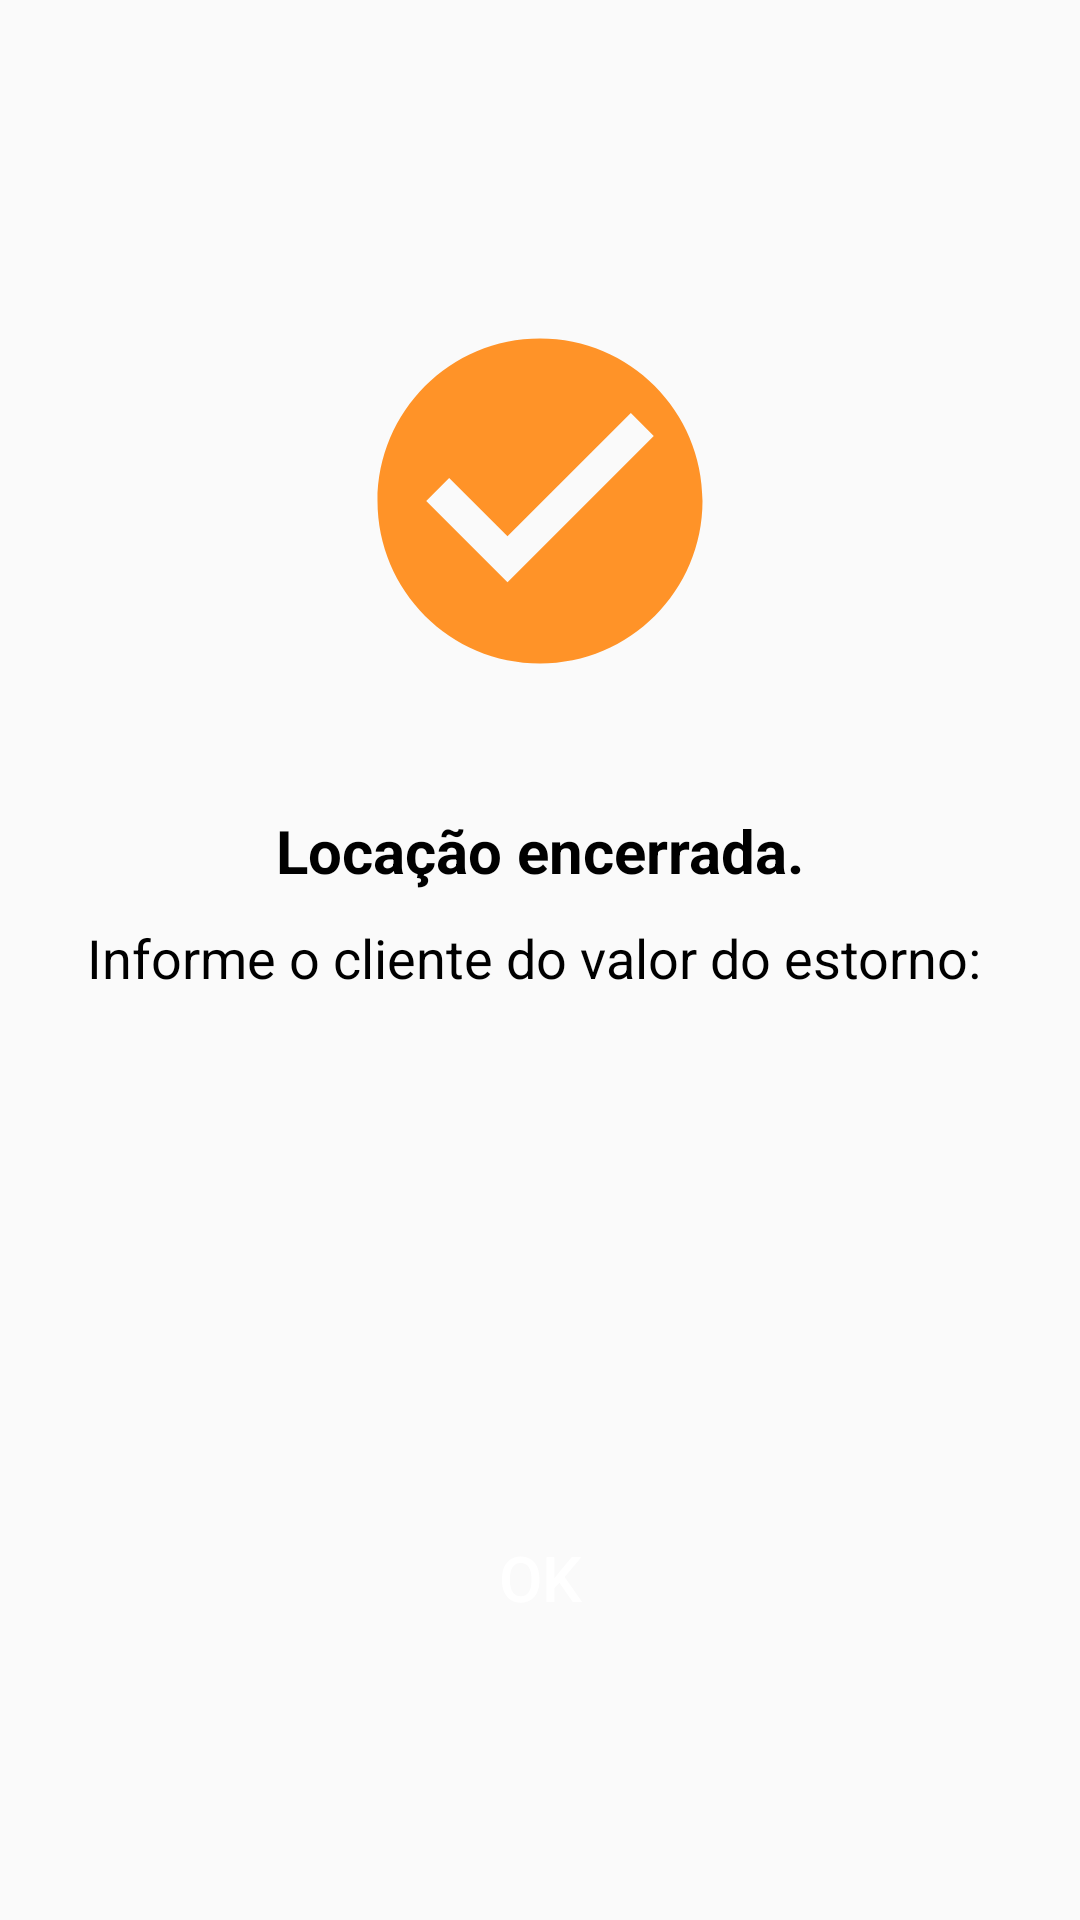

Screen size 1080px×1920px. Icon name, then its center in pixels as [x,y]:
sucess: [540,501]
